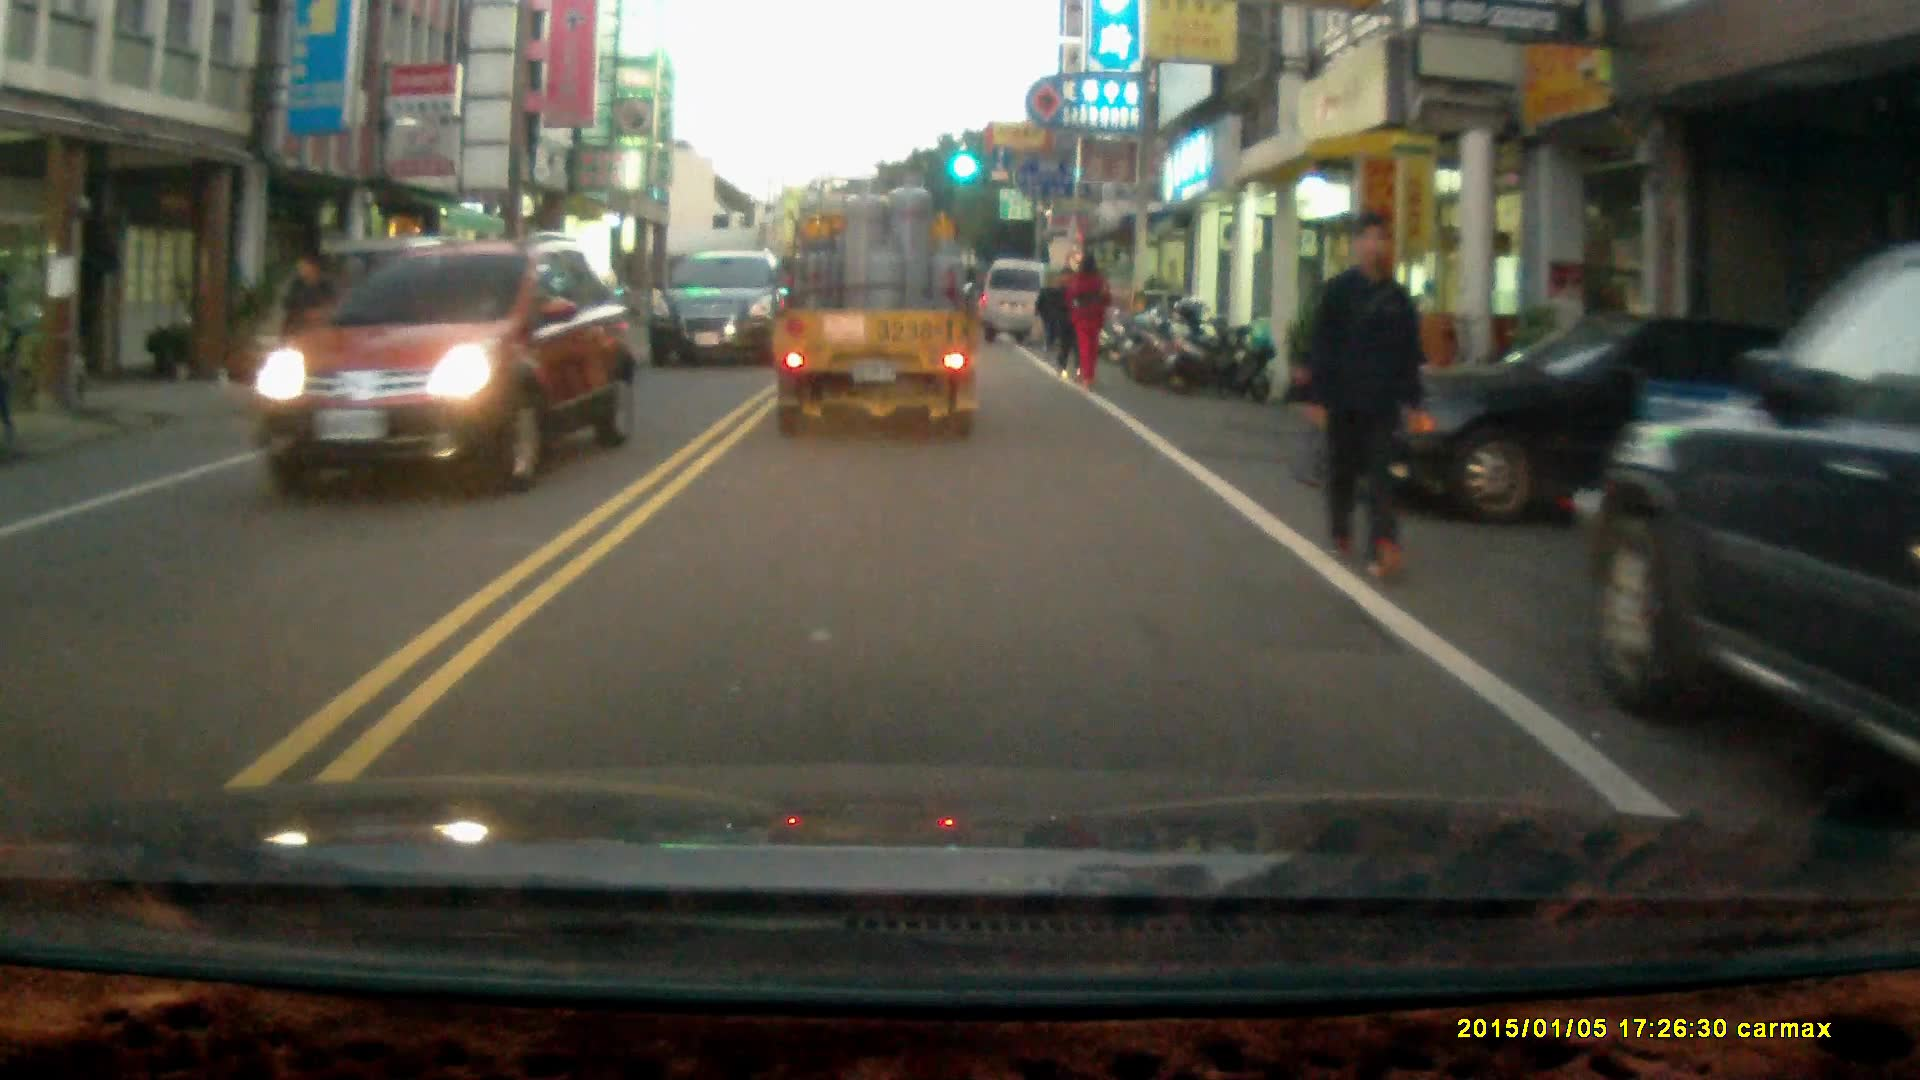pedestrian: (1301, 212, 1430, 584), (275, 252, 337, 416), (1069, 249, 1110, 386), (1034, 269, 1064, 355)
vehicle: (1582, 247, 1920, 792), (1353, 313, 1869, 544), (245, 240, 640, 498), (772, 202, 985, 478), (649, 251, 789, 374), (984, 262, 1064, 350)
